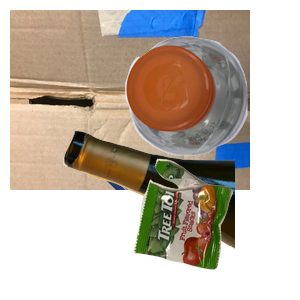cardboard: (10, 10, 250, 190)
glass: (60, 128, 300, 300)
plastic: (123, 33, 300, 181)
trash: (131, 156, 300, 300)
